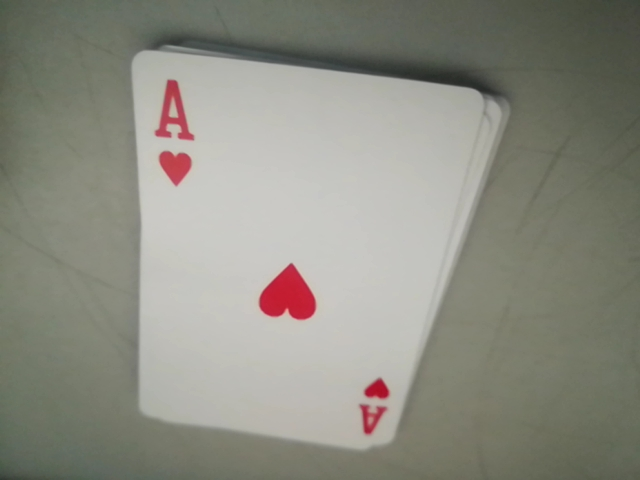hx a: (145, 70, 196, 201)
